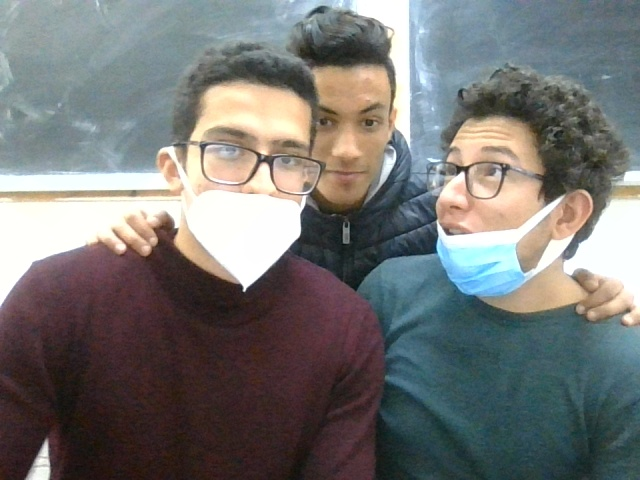mask_weared_incorrect: (429, 60, 620, 307), (161, 37, 315, 300)
without_mask: (301, 11, 415, 207)
